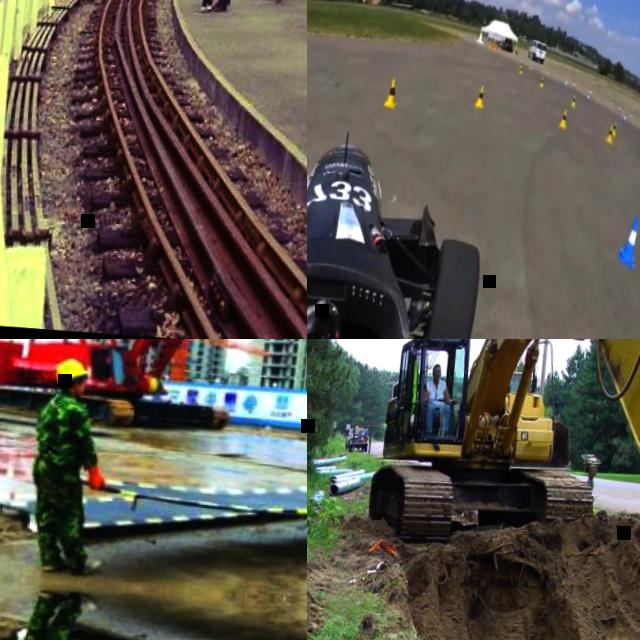Hardhat: (56, 356, 89, 384)
NO-Hardhat: (432, 363, 442, 373)
NO-Mask: (71, 383, 89, 396), (432, 372, 441, 382)
NO-Safety Vest: (35, 395, 91, 470), (426, 381, 448, 405)
Person: (25, 352, 120, 576), (421, 362, 459, 435)
Safety Cone: (616, 213, 640, 271), (383, 78, 399, 112), (475, 87, 490, 110), (559, 110, 571, 133), (606, 128, 616, 148), (610, 120, 619, 140), (570, 96, 577, 113), (539, 77, 546, 92), (518, 64, 525, 77), (530, 62, 534, 73)
vehicle: (330, 339, 640, 640), (307, 118, 522, 339), (344, 424, 369, 455), (527, 39, 547, 65)
